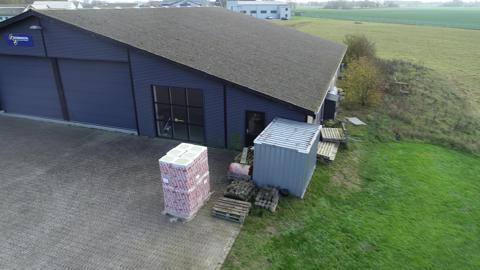RockwoolPallet: (158, 142, 211, 220)
